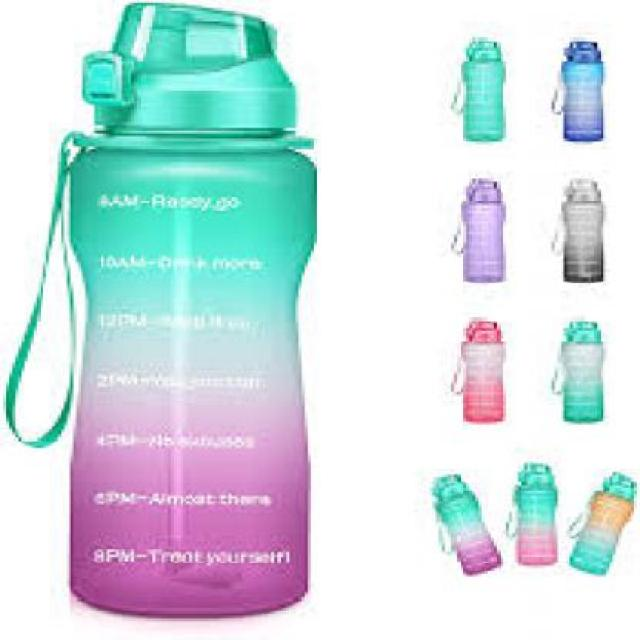Drinking: (48, 0, 354, 617)
